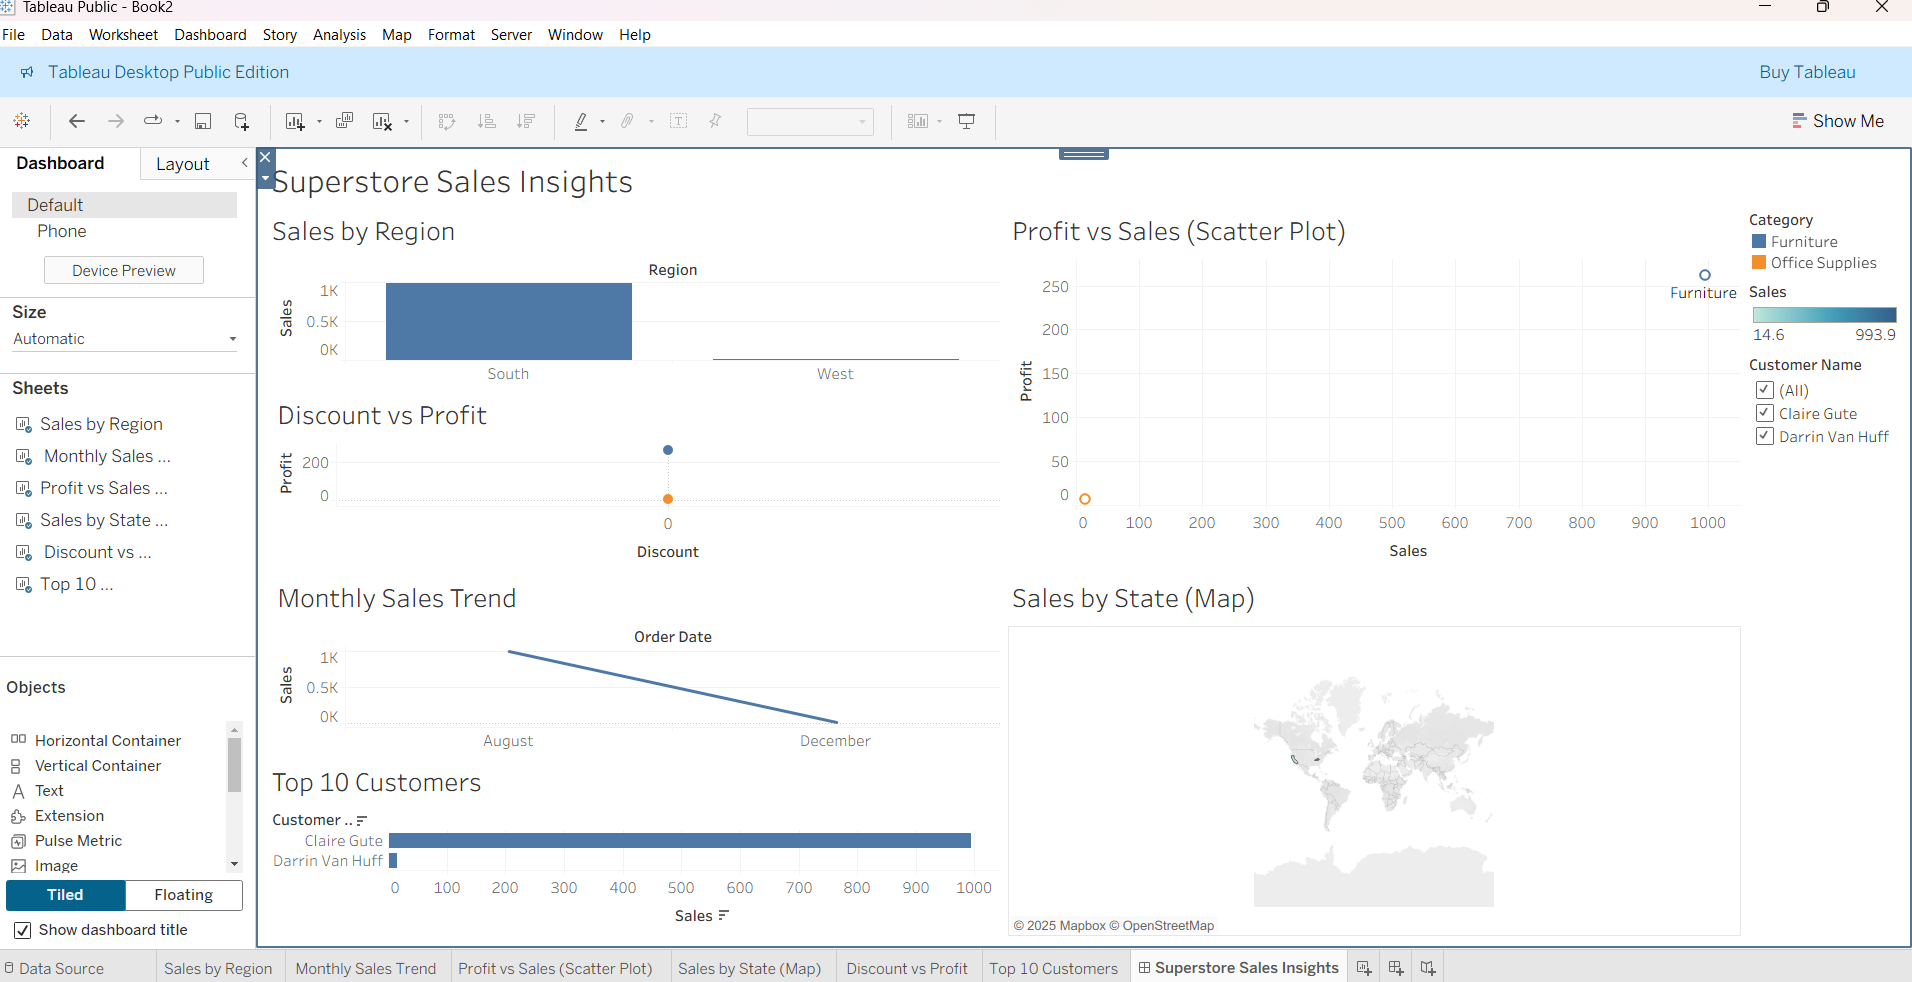

This screenshot's page, from the dashboard's own definition file:
{"tool":"tableau","page":{"name":"Superstore Sales Insights","canvas":[1000,1000],"units":"permille","ordinal":0},"visuals":[{"type":"worksheet","title":"Sales by Region","mark":"Bar","rows":["Sales"],"cols":["Region"],"box":[4.8,10,446.9,245]},{"type":"worksheet","title":"Profit vs Sales (Scatter Plot)","mark":"Automatic","rows":["Profit"],"cols":["Sales"],"box":[451.7,10,446.9,490]},{"type":"legend","title":"Profit vs Sales (Scatter Plot)","param":"[federated.0tvcehi079whw10zybbiw1vy3iuf].[none:Category:nk]","box":[898.6,10,96.6,89.9]},{"type":"legend","title":"Sales by State (Map)","param":"[federated.0tvcehi079whw10zybbiw1vy3iuf].[sum:Sales:qk]","box":[898.6,99.9,96.6,91.1]},{"type":"filter","title":"Top 10 Customers","param":"[federated.0tvcehi079whw10zybbiw1vy3iuf].[none:Customer Name:nk]","box":[898.6,191,96.6,131.1]},{"type":"worksheet","title":" Discount vs Profit","mark":"Circle","rows":["Profit"],"cols":["Discount"],"box":[4.8,255,446.9,245]},{"type":"worksheet","title":" Monthly Sales Trend","mark":"Line","rows":["Sales"],"cols":["Order Date"],"box":[4.8,500,446.9,245]},{"type":"worksheet","title":"Sales by State (Map)","mark":"Automatic","box":[451.7,500,446.9,490]},{"type":"worksheet","title":"Top 10 Customers","mark":"Automatic","rows":["Customer Name"],"cols":["Sales"],"box":[4.8,745,446.9,245]}]}

Visuals, with their boxes on the dashboard's canvas, which has no fixed pixel size, in thousandths of its width and height (x1, y1, x2, y2). These are canvas units, not pixel positions in the 1912x982 screenshot, which may show the page scaled, cropped or inside an application window:
"Sales by Region" worksheet (Bar marks): l=5, t=10, r=452, b=255
"Profit vs Sales (Scatter Plot)" worksheet: l=452, t=10, r=899, b=500
"Profit vs Sales (Scatter Plot)" legend: l=899, t=10, r=995, b=100
"Sales by State (Map)" legend: l=899, t=100, r=995, b=191
"Top 10 Customers" filter: l=899, t=191, r=995, b=322
" Discount vs Profit" worksheet (Circle marks): l=5, t=255, r=452, b=500
" Monthly Sales Trend" worksheet (Line marks): l=5, t=500, r=452, b=745
"Sales by State (Map)" worksheet: l=452, t=500, r=899, b=990
"Top 10 Customers" worksheet: l=5, t=745, r=452, b=990
